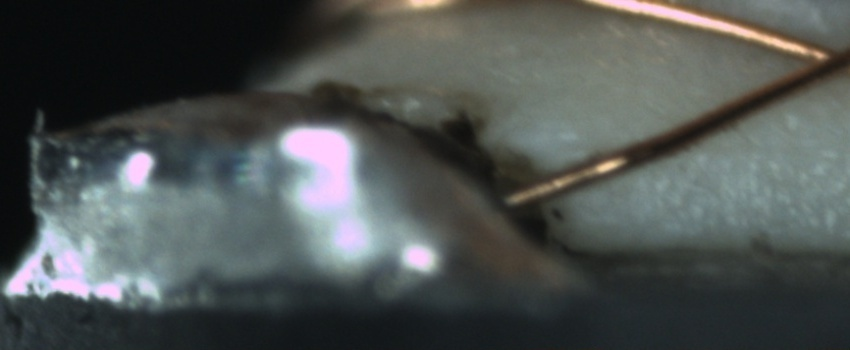CL: (773, 26, 849, 90)
